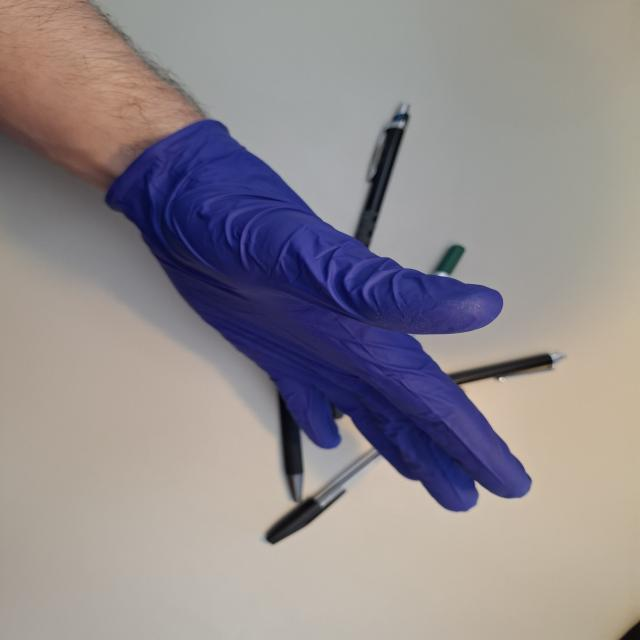glove_on: (101, 118, 537, 515)
